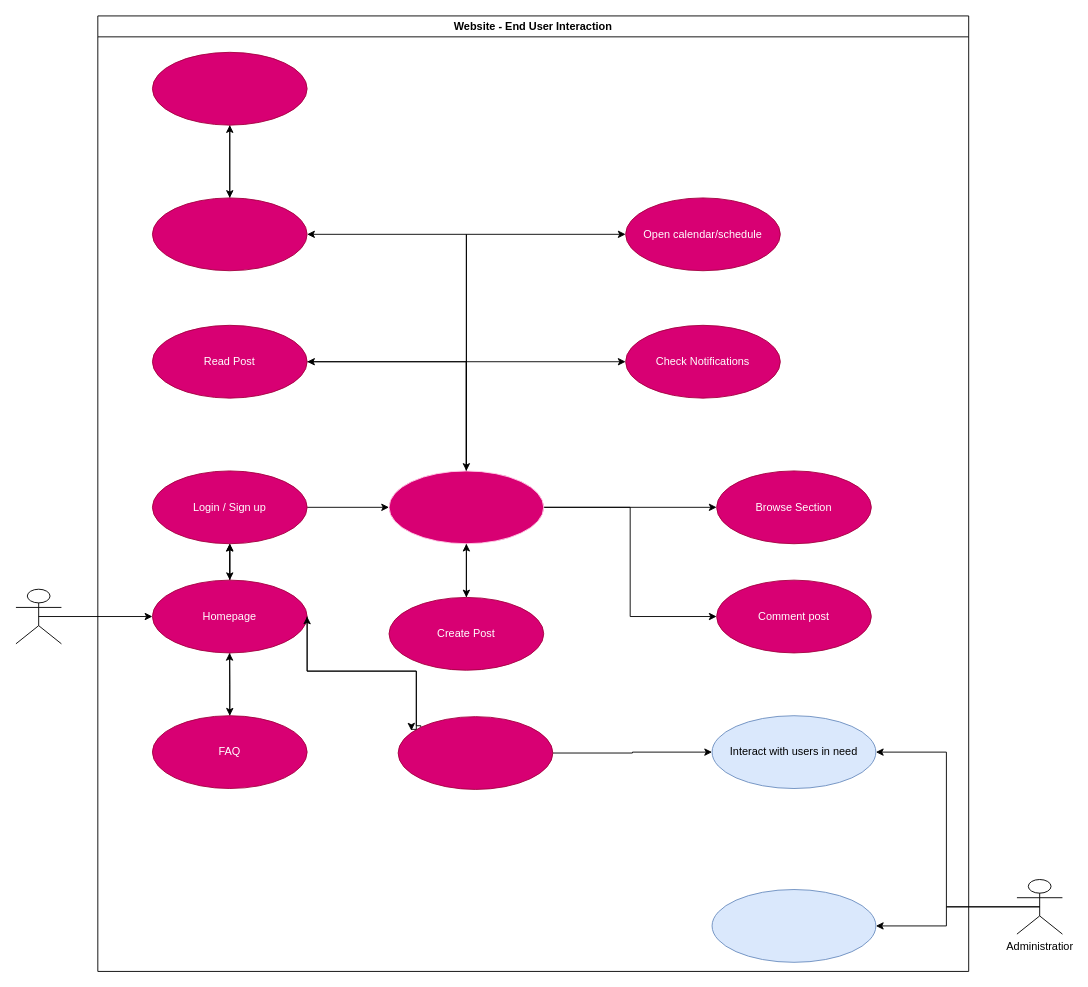
Image size: 1088x987. Some labels were removed from this diagram. Each missing label, with the centre of its shape:
Administer friendlist: point (229, 234)
Administer sections: point (793, 925)
Feed: point (466, 507)
Request Help: point (475, 752)
Send Friendrequest: point (229, 88)
User 1: point (38, 616)
